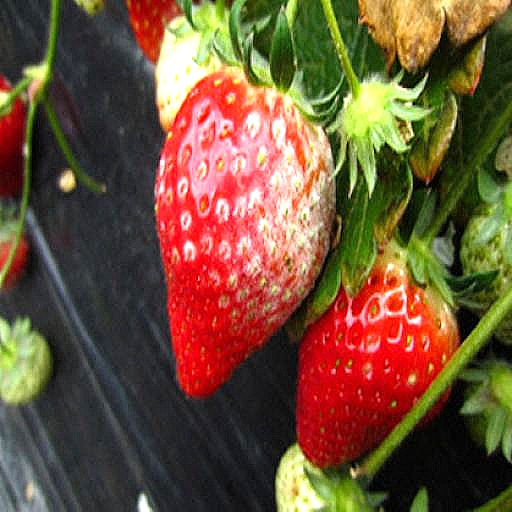Powdery Mildew Fruit: (154, 66, 339, 340)
